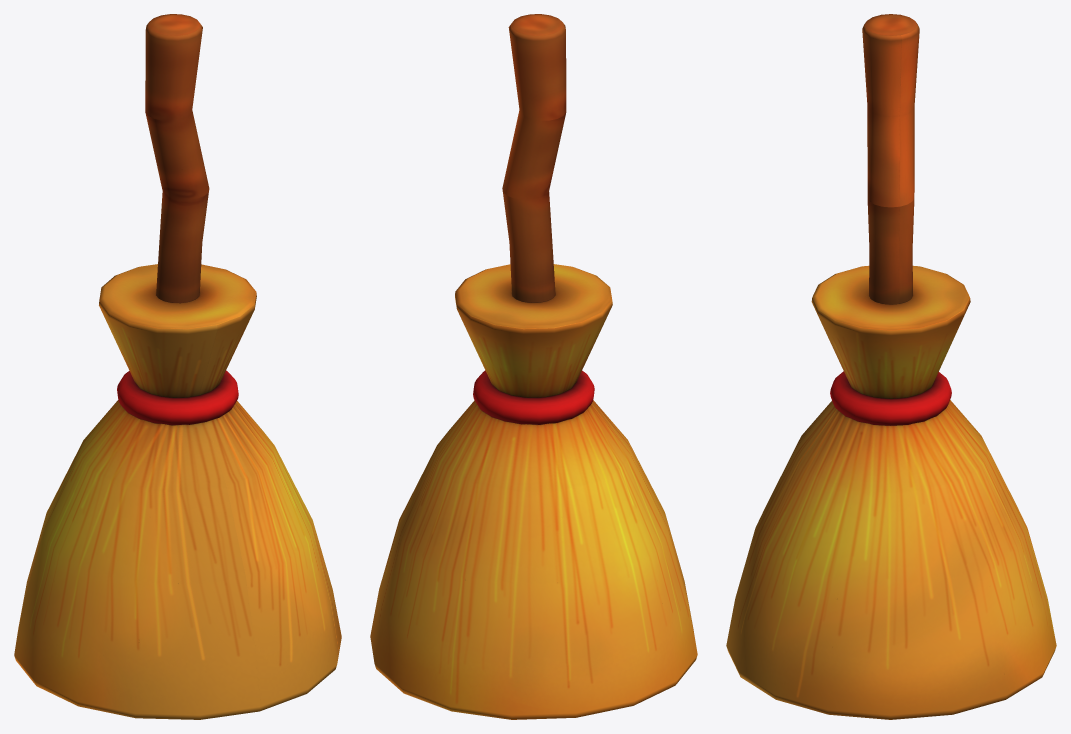
File: Broom.fbx
3 renders of one model, left to right at view 1: azimuth 30°, elevation 25°; view 2: azimuth 150°, elevation 25°; view 3: azimuth 270°, elevation 25°, orthographic.
Parts seen in each view (by area): view 1: Broom; view 2: Broom; view 3: Broom.
Part boxes in pixels (<box>): Broom: <box>14,14,341,719</box>; Broom: <box>370,14,697,719</box>; Broom: <box>726,14,1056,719</box>.
Bounding box in the file's own units: 0.0946 × 0.1996 × 0.0951.
